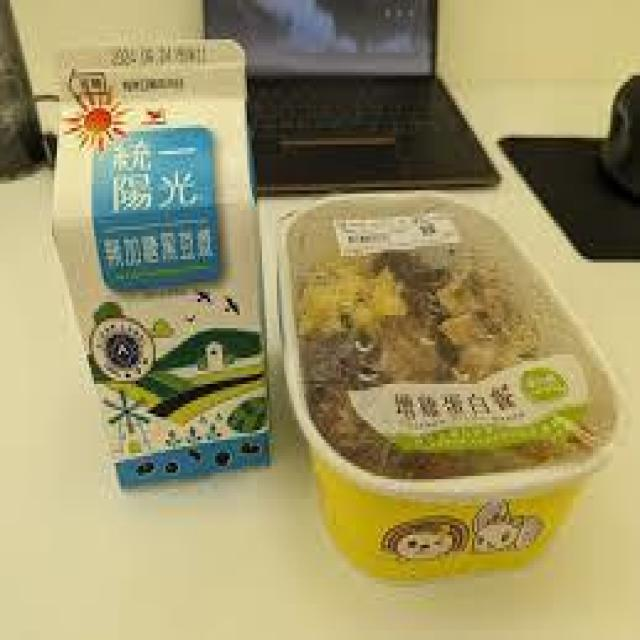TongYi_UnsweetenedBlackSoyMilk: (53, 44, 271, 497)
